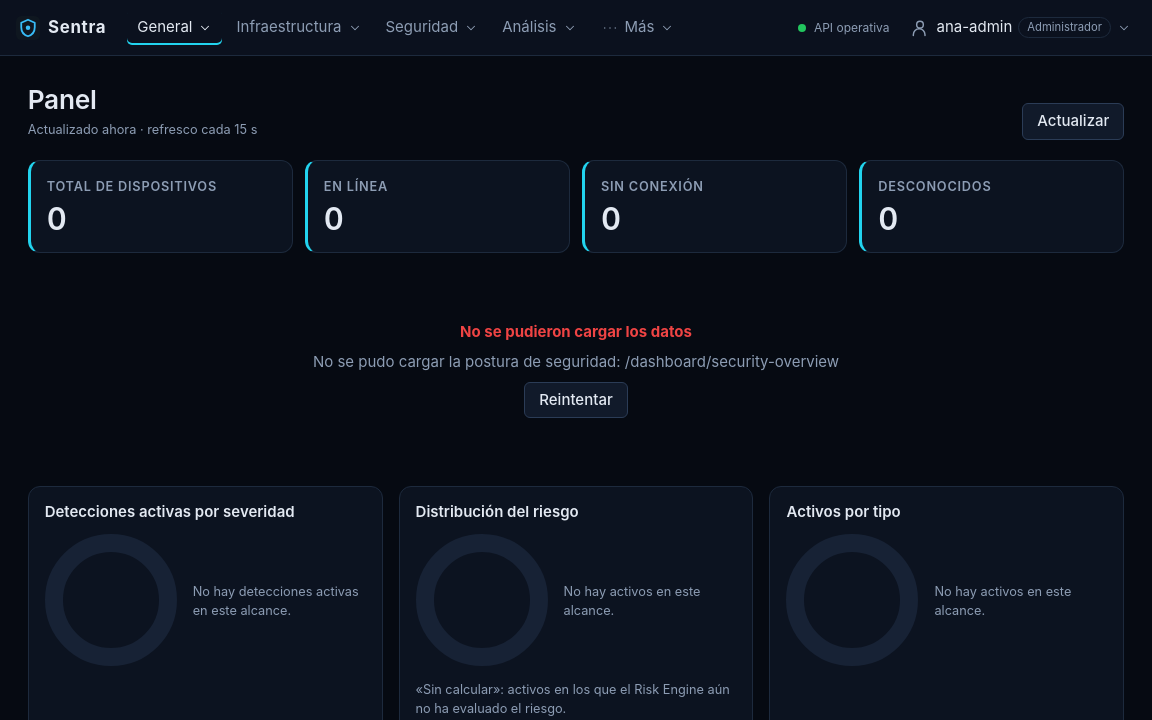
Test case: barra superior y preferencias › los grupos se abren como menú, se cierran con Escape y al navegar
Click the button "General". click: (175, 28)
box: [126,10,224,46]
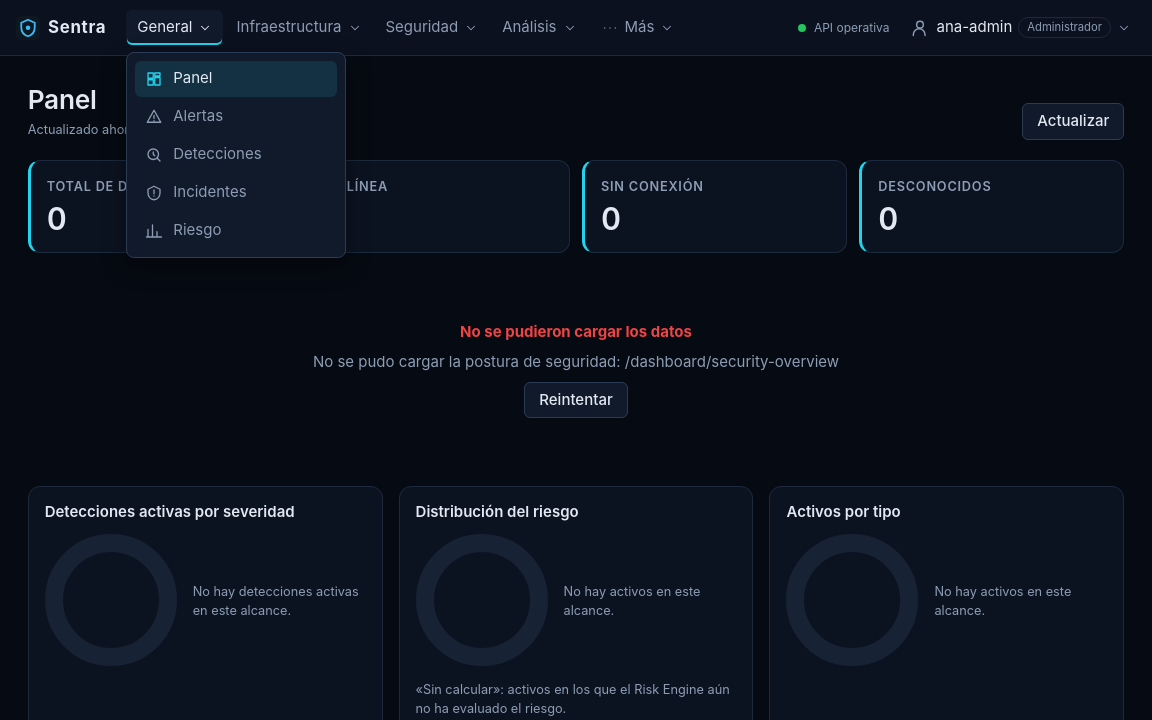
Press Escape
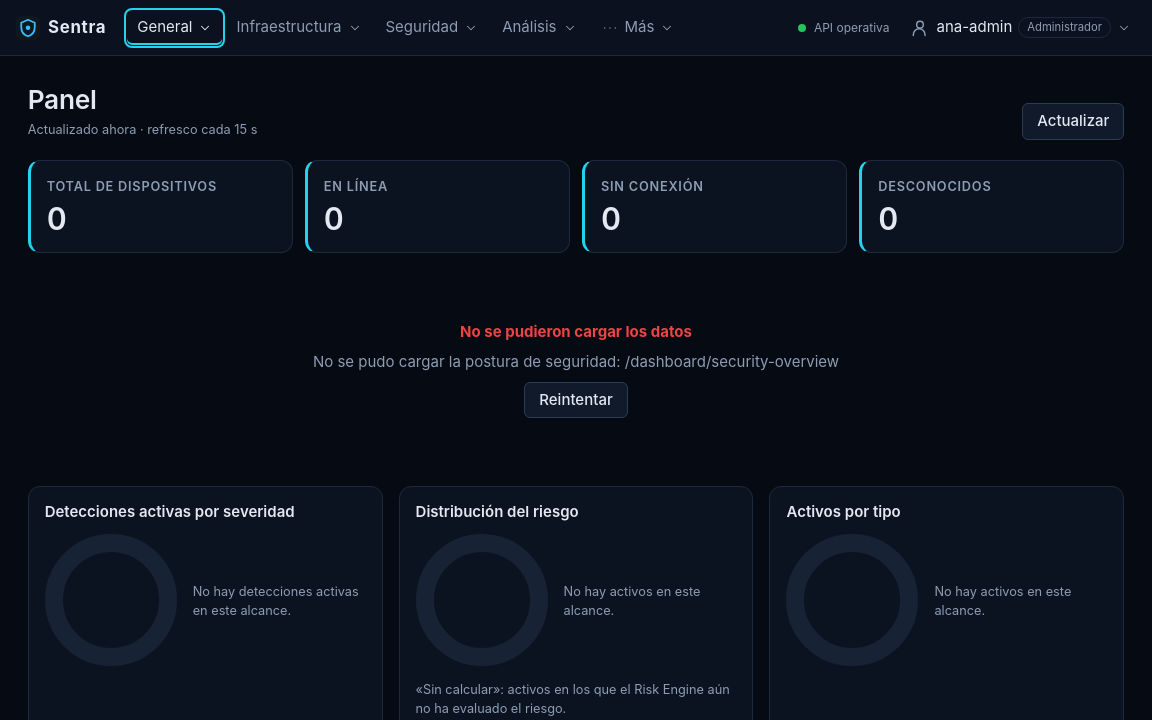
Click the button "General". click: (175, 28)
box: [126,10,224,46]
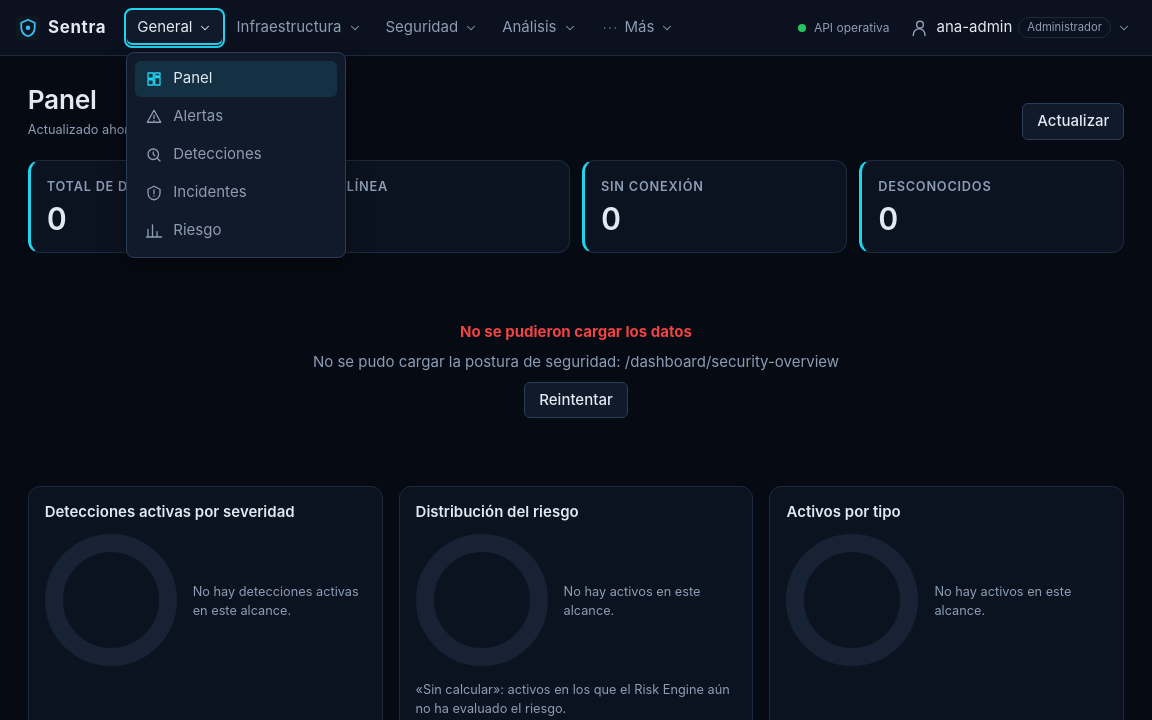
Click the link "Alertas". click: (184, 116)
box: [145,106,223,126]
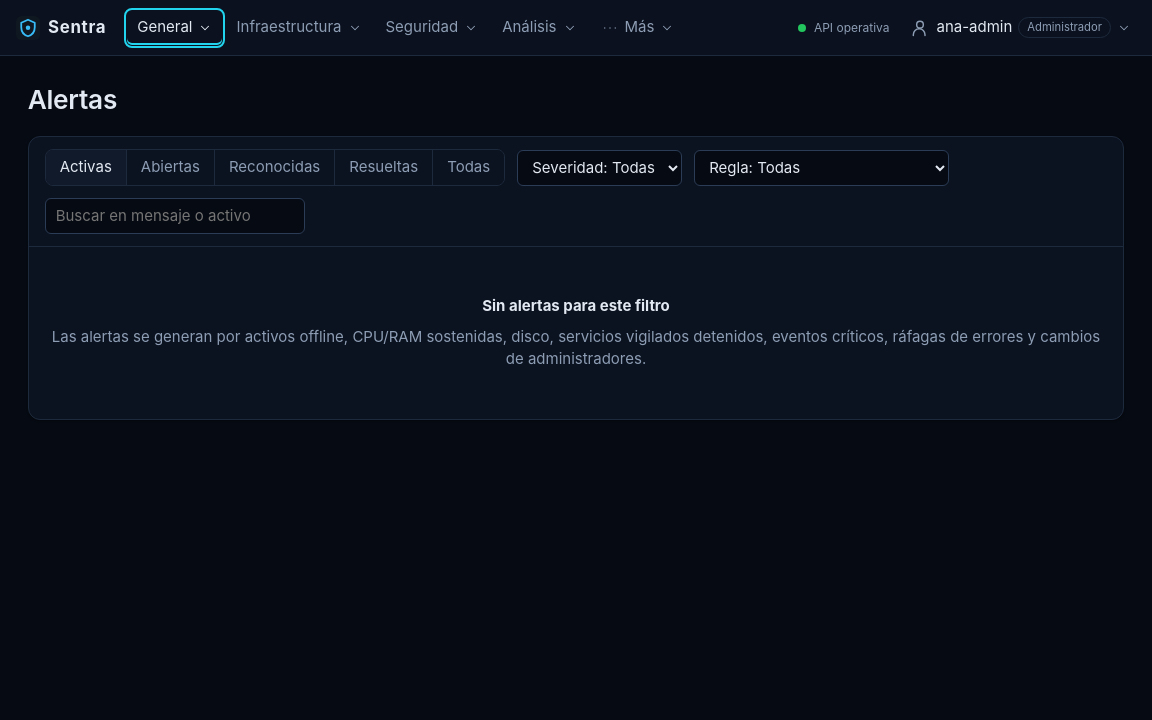
Expected: the heading "Alertas" is shown, [28,84,117,115]
